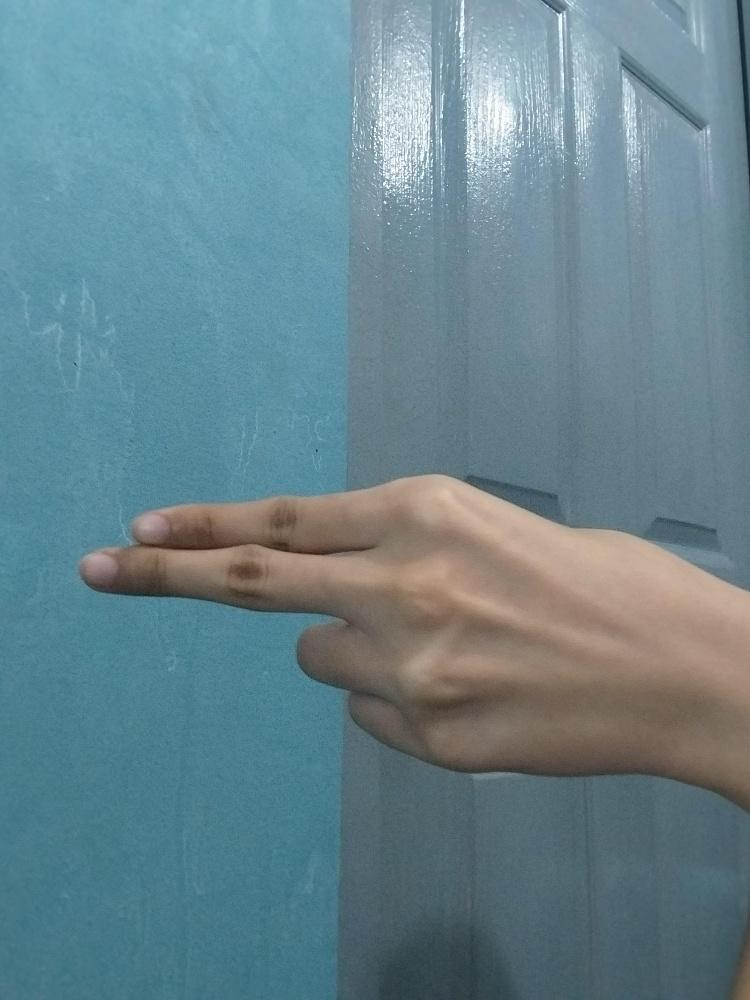h: (81, 467, 667, 775)
